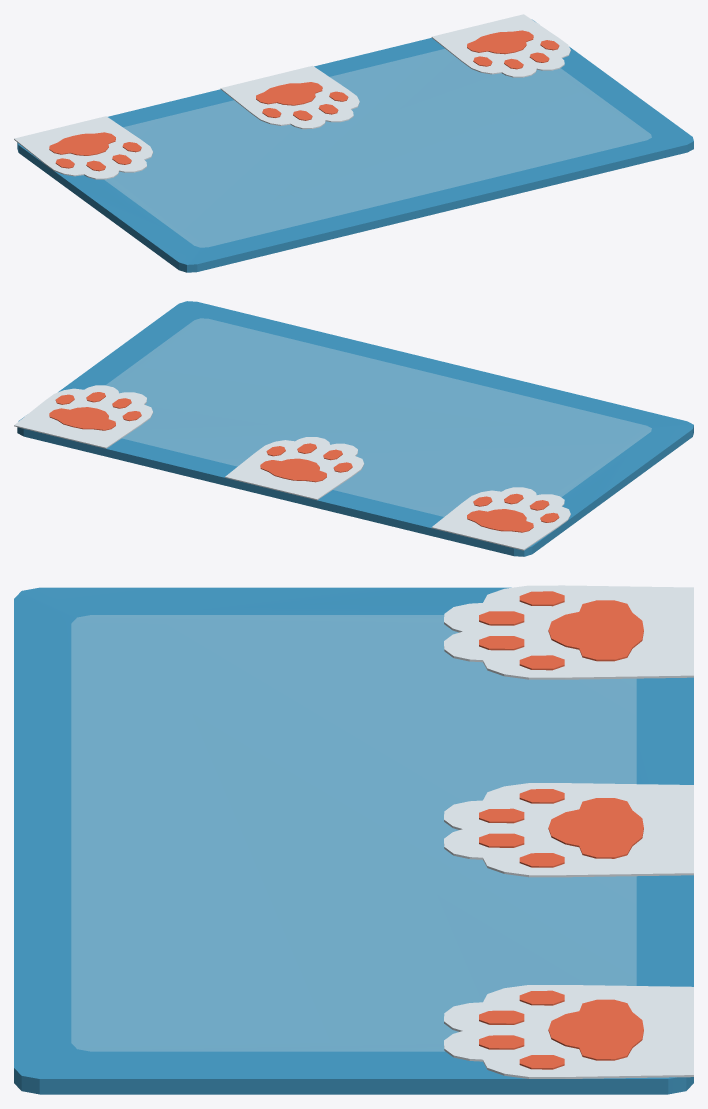
Rendered from Tham 2.007.gltf.
3 renders of one model, top to bottom at view 1: azimuth 30°, elevation 25°; view 2: azimuth 150°, elevation 25°; view 3: azimuth 270°, elevation 25°, orthographic. The views are drawn at different scales.
Visible parts, largest first — view 1: Tham 2.007; view 2: Tham 2.007; view 3: Tham 2.007.
Boxes of the visible parts, bbox=[...] form: Tham 2.007: bbox=[14, 14, 693, 272]; Tham 2.007: bbox=[14, 301, 693, 556]; Tham 2.007: bbox=[14, 585, 693, 1094].
Size of the model in its own units: 23.83 by 0.4292 by 13.93.
1 material, 1 textured.
